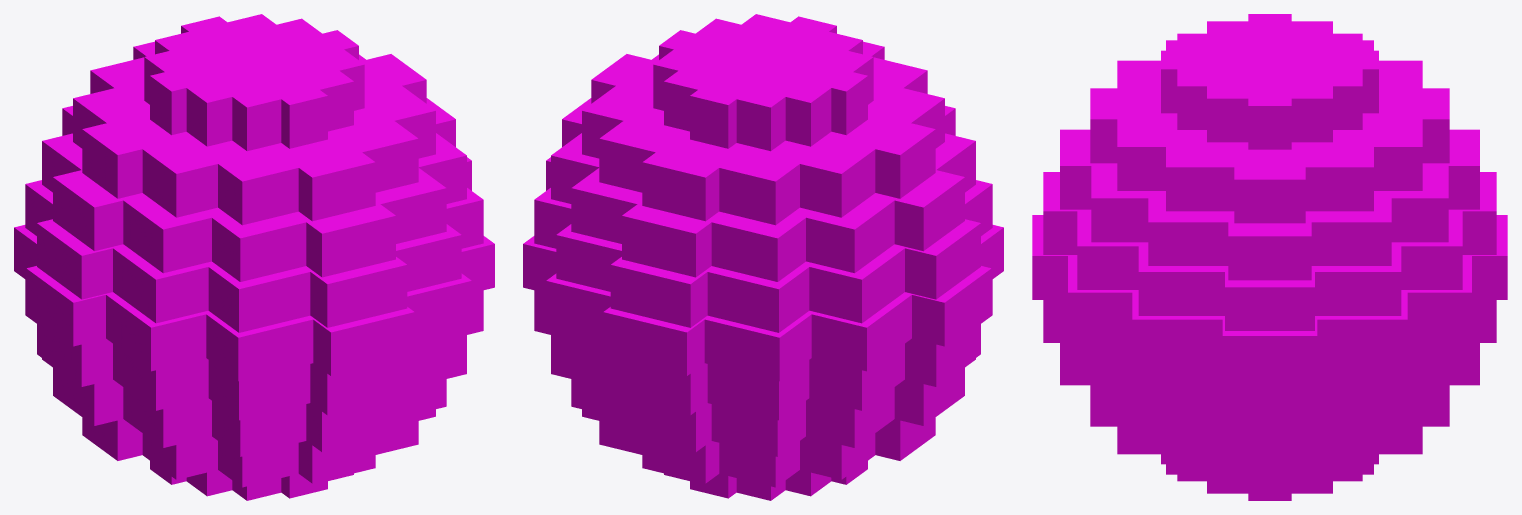
The model's file is 축구공.fbx.
The picture shows the model from 3 angles, left to right: view 1: azimuth 30°, elevation 25°; view 2: azimuth 150°, elevation 25°; view 3: azimuth 270°, elevation 25°; orthographic projection.
Parts seen in each view (by area): view 1: Box009; view 2: Box009; view 3: Box009.
Part boxes in pixels (x1=…): Box009: x1=14, y1=14, x2=494, y2=500; Box009: x1=523, y1=14, x2=1003, y2=500; Box009: x1=1032, y1=14, x2=1507, y2=500.
Bounding box in the file's own units: 19.16 × 17.6 × 19.19.
